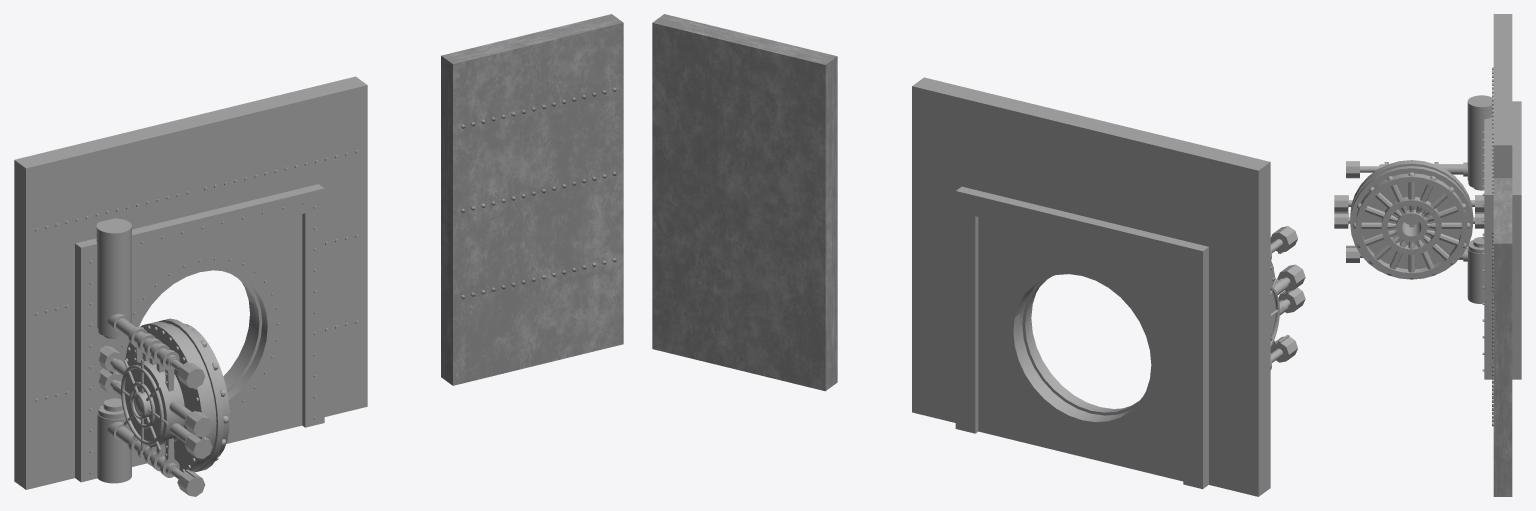
Rendered from heist.vault_door_wall3.fbx.
The picture shows the model from 3 angles, left to right: view 1: azimuth 30°, elevation 25°; view 2: azimuth 150°, elevation 25°; view 3: azimuth 270°, elevation 25°; orthographic projection. The views are drawn at different scales.
Parts seen in each view (by area): view 1: Doorwall, Wall_normal, Door; view 2: Doorwall, Wall_normal, Door; view 3: Door, Doorwall, Wall_normal.
Part boxes in pixels (x1=…): Doorwall: x1=14, y1=76, x2=367, y2=489; Wall_normal: x1=441, y1=14, x2=623, y2=385; Door: x1=96, y1=218, x2=229, y2=496; Doorwall: x1=912, y1=77, x2=1270, y2=496; Wall_normal: x1=652, y1=14, x2=837, y2=391; Door: x1=1270, y1=226, x2=1305, y2=369; Door: x1=1334, y1=95, x2=1493, y2=303; Doorwall: x1=1482, y1=14, x2=1521, y2=379; Wall_normal: x1=1492, y1=178, x2=1512, y2=496.
Bounding box in the file's own units: 875 × 450 × 301.
